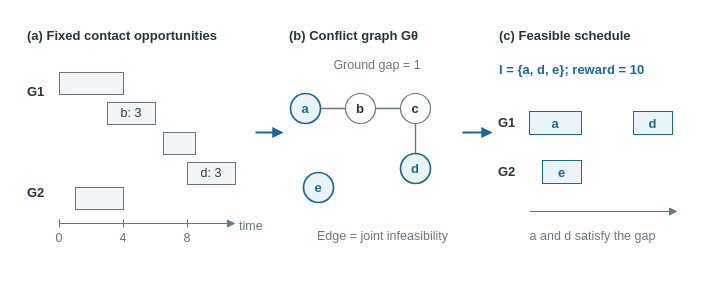
Image size: 714x284. Some labels were removed from this diagram. Each missing label, with the centre of its shape:
"a: 4" goes at point 91,83.
"c: 2" goes at point 179,143.
"e: 3" goes at point 99,198.
